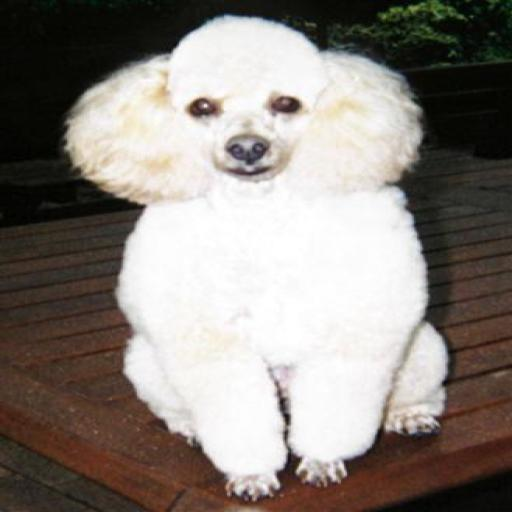dog_face: (68, 21, 414, 205)
